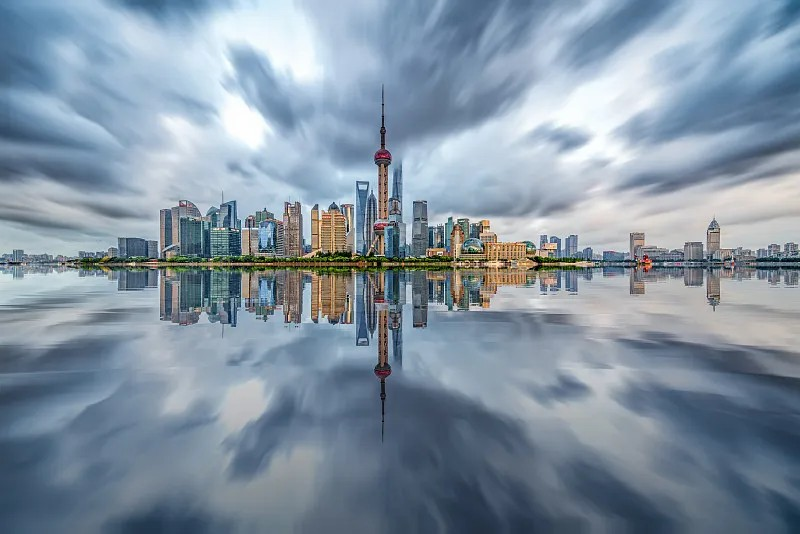Oriental: (365, 83, 392, 255)
